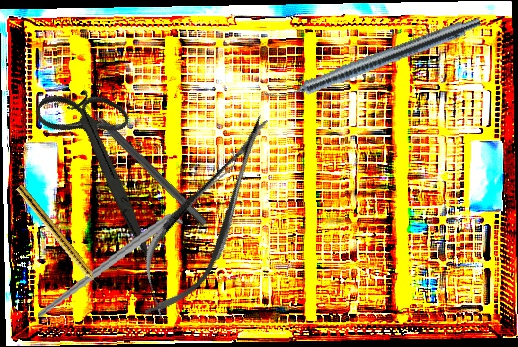Fixation Ring: (65, 88, 215, 234)
Handpiece: (263, 10, 484, 111), (13, 183, 104, 292)
Hook Surgical: (21, 151, 251, 319)
Iris Scissors: (0, 70, 207, 257)
Micro Scissor: (116, 100, 297, 333)
